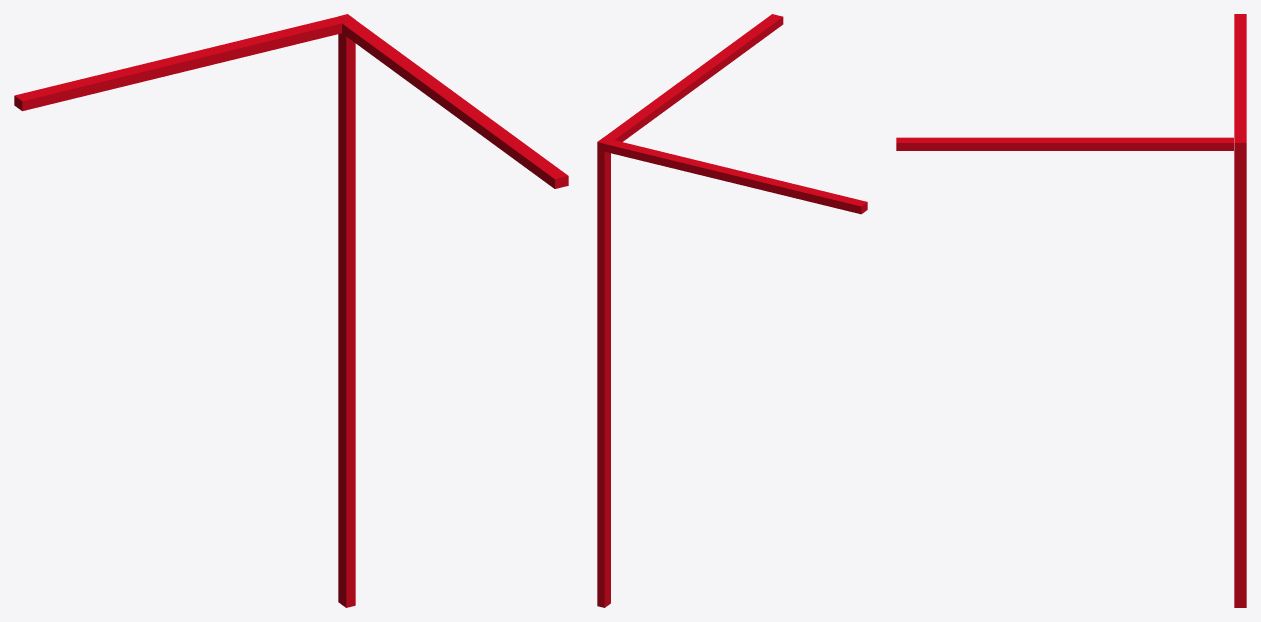
File: CabinetEdges.glb
3 views of the same model, side by side, from view 1: azimuth 30°, elevation 25°; view 2: azimuth 150°, elevation 25°; view 3: azimuth 270°, elevation 25° (orthographic). The views are drawn at different scales.
Visible parts, largest first — view 1: edges.002, edges.001, edges.003; view 2: edges.002, edges.001, edges.003; view 3: edges.002, edges.003, edges.001.
Part boxes in pixels (x1,y1,x2,y2): edges.002: (338, 14, 355, 607); edges.001: (14, 16, 345, 111); edges.003: (342, 20, 568, 188); edges.002: (597, 137, 610, 607); edges.001: (604, 139, 867, 214); edges.003: (604, 14, 783, 141); edges.002: (1234, 139, 1246, 607); edges.003: (896, 137, 1233, 150); edges.001: (1234, 14, 1246, 139).
Bounding box in the file's own units: 1.29 × 2.17 × 1.48.
